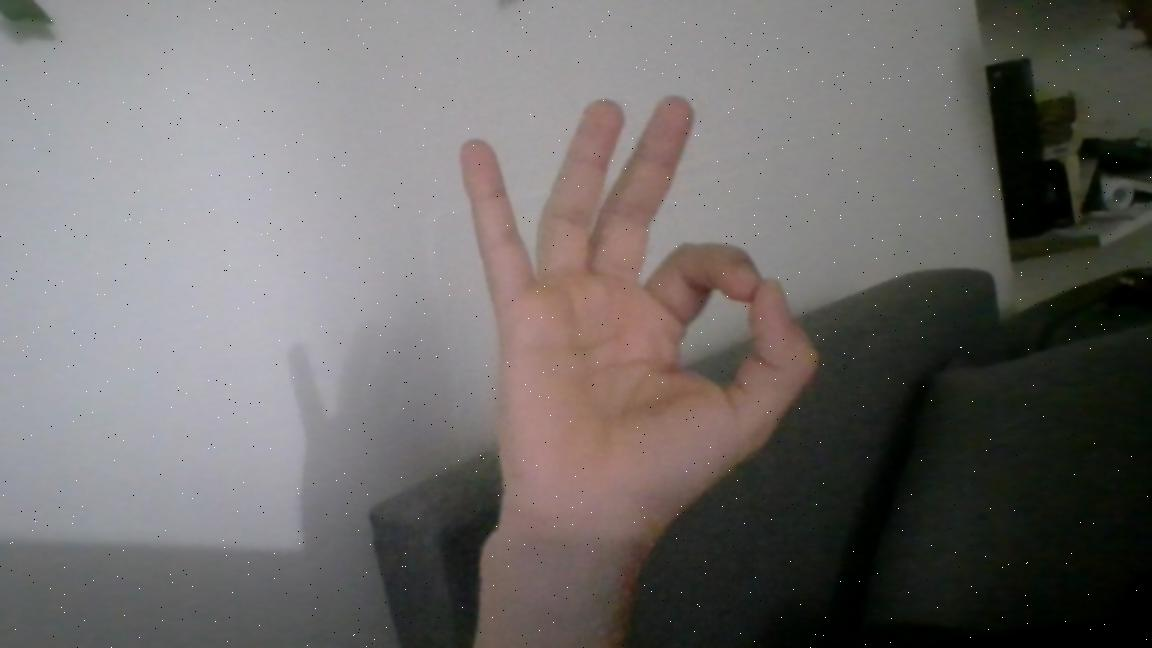zero: (451, 88, 827, 541)
